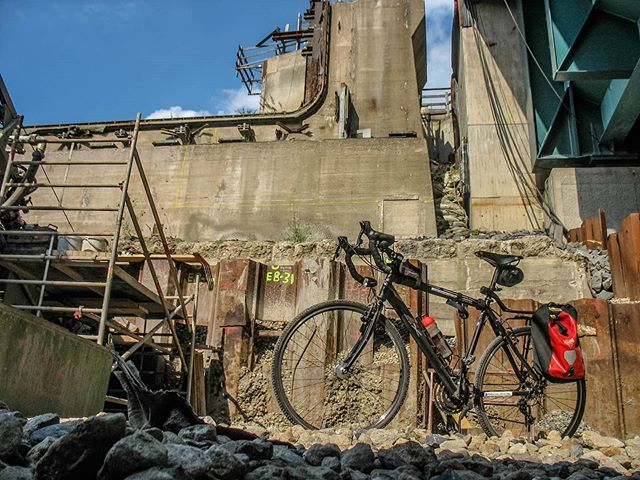bicicle: (263, 214, 592, 449)
building: (1, 1, 636, 409)
rocks: (1, 422, 640, 480)
